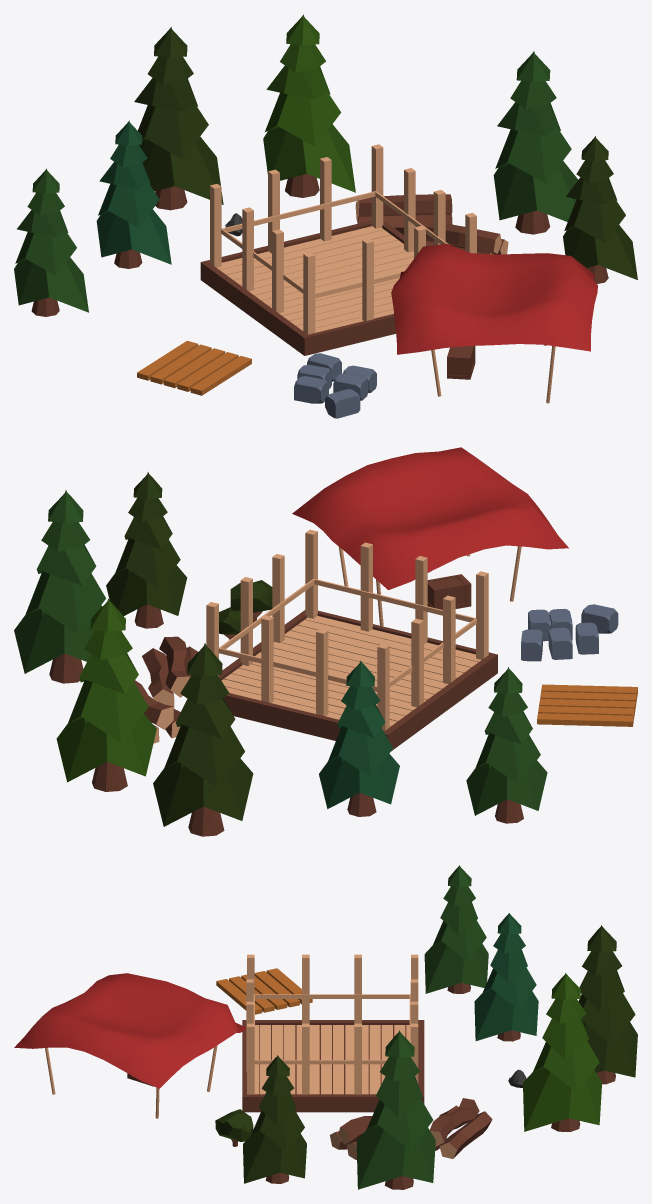
File: WarehouseLVL2.fbx
The picture shows the model from 3 angles, top to bottom: view 1: azimuth 30°, elevation 25°; view 2: azimuth 150°, elevation 25°; view 3: azimuth 270°, elevation 25°; orthographic projection. The views are drawn at different scales.
Visible parts, largest first — view 1: Plane, Cube.025, ель.002, ель.005, Cube.004, ель.012, ель.011, ель.004, ель.006, Cube.006, Cube.010, Cube.001 (+4 smaller); view 2: Plane, Cube.025, ель.002, ель.012, Cube.004, ель.005, ель.011, ель.004, ель.006, Cube.006, Cube.010, Cube.001 (+7 smaller); view 3: Plane, ель.005, ель.002, Cube.004, ель.012, ель.011, ель.006, ель.004, Cube.006, Cube.025, бревна.001, Cube.010 (+4 smaller).
Part boxes in pixels (x1=…): Plane: x1=391, y1=244, x2=597, y2=354; Cube.025: x1=210, y1=144, x2=476, y2=334; ель.002: x1=263, y1=14, x2=355, y2=197; ель.005: x1=493, y1=51, x2=578, y2=234; Cube.004: x1=217, y1=226, x2=413, y2=332; ель.012: x1=134, y1=27, x2=223, y2=210; ель.011: x1=96, y1=120, x2=171, y2=268; ель.004: x1=14, y1=168, x2=88, y2=316; ель.006: x1=563, y1=136, x2=637, y2=283; Cube.006: x1=200, y1=220, x2=403, y2=355; Cube.010: x1=137, y1=340, x2=251, y2=395; Cube.001: x1=294, y1=353, x2=376, y2=418; Plane: x1=292, y1=447, x2=568, y2=589; Cube.025: x1=206, y1=529, x2=488, y2=730; ель.002: x1=56, y1=598, x2=156, y2=791; ель.012: x1=153, y1=643, x2=253, y2=836; Cube.004: x1=221, y1=616, x2=481, y2=726; ель.005: x1=14, y1=490, x2=105, y2=683; ель.011: x1=319, y1=660, x2=399, y2=816; ель.004: x1=466, y1=667, x2=547, y2=823; ель.006: x1=106, y1=472, x2=187, y2=628; Cube.006: x1=219, y1=610, x2=497, y2=751; Cube.010: x1=537, y1=684, x2=637, y2=726; Cube.001: x1=521, y1=604, x2=618, y2=661; Plane: x1=14, y1=973, x2=246, y2=1088; ель.005: x1=356, y1=1030, x2=435, y2=1189; ель.002: x1=523, y1=973, x2=602, y2=1131; Cube.004: x1=254, y1=1025, x2=409, y2=1094; ель.012: x1=578, y1=925, x2=637, y2=1084; ель.011: x1=474, y1=913, x2=538, y2=1041; ель.006: x1=243, y1=1055, x2=306, y2=1183; ель.004: x1=424, y1=865, x2=488, y2=993; Cube.006: x1=242, y1=1020, x2=424, y2=1112; Cube.025: x1=246, y1=954, x2=418, y2=1094; бревна.001: x1=430, y1=1098, x2=492, y2=1158; Cube.010: x1=216, y1=968, x2=312, y2=1014.
Bounding box in the file's own units: 817 × 260 × 955.
